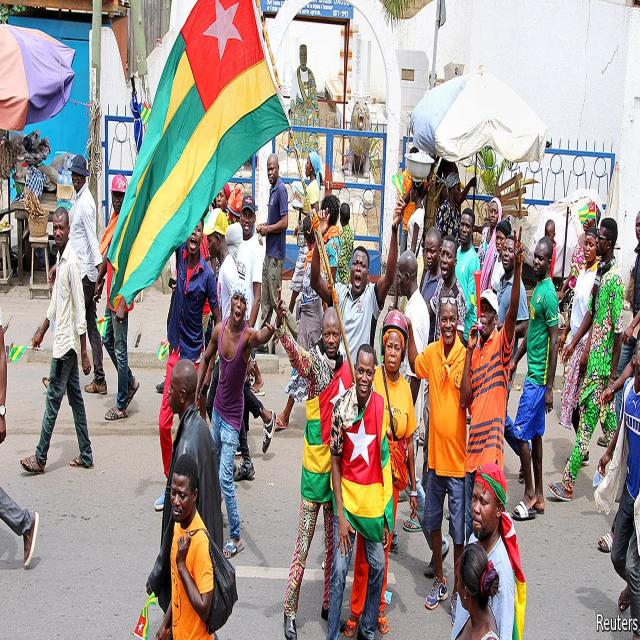body: (272, 285, 354, 639), (343, 308, 419, 639), (191, 276, 275, 561), (546, 216, 626, 501), (322, 341, 396, 639), (152, 215, 224, 511), (460, 224, 524, 548), (144, 357, 224, 616), (404, 289, 465, 626), (387, 249, 449, 580), (19, 205, 94, 474), (202, 205, 278, 465), (310, 195, 406, 374), (507, 234, 559, 522), (48, 155, 108, 390), (596, 334, 640, 639), (238, 515, 348, 633), (153, 452, 220, 640), (449, 460, 516, 640), (274, 213, 328, 432), (93, 172, 140, 422), (158, 213, 214, 416), (0, 303, 40, 572), (596, 211, 640, 449), (557, 226, 600, 467), (494, 233, 534, 483), (597, 325, 640, 555), (252, 153, 299, 355), (388, 532, 454, 628), (558, 199, 602, 332), (287, 150, 322, 316), (453, 542, 501, 640), (427, 235, 467, 344), (287, 40, 323, 156), (234, 194, 264, 330), (454, 206, 482, 348), (435, 171, 477, 249), (399, 146, 428, 258), (419, 224, 444, 344), (207, 180, 235, 284), (230, 427, 274, 492), (476, 195, 504, 294), (402, 175, 426, 290), (341, 100, 374, 180), (320, 193, 344, 290), (0, 526, 39, 576), (40, 435, 90, 473), (488, 219, 512, 294), (98, 383, 140, 421), (224, 186, 243, 261), (436, 174, 477, 207), (338, 202, 354, 286), (426, 151, 460, 179), (544, 217, 558, 282)
